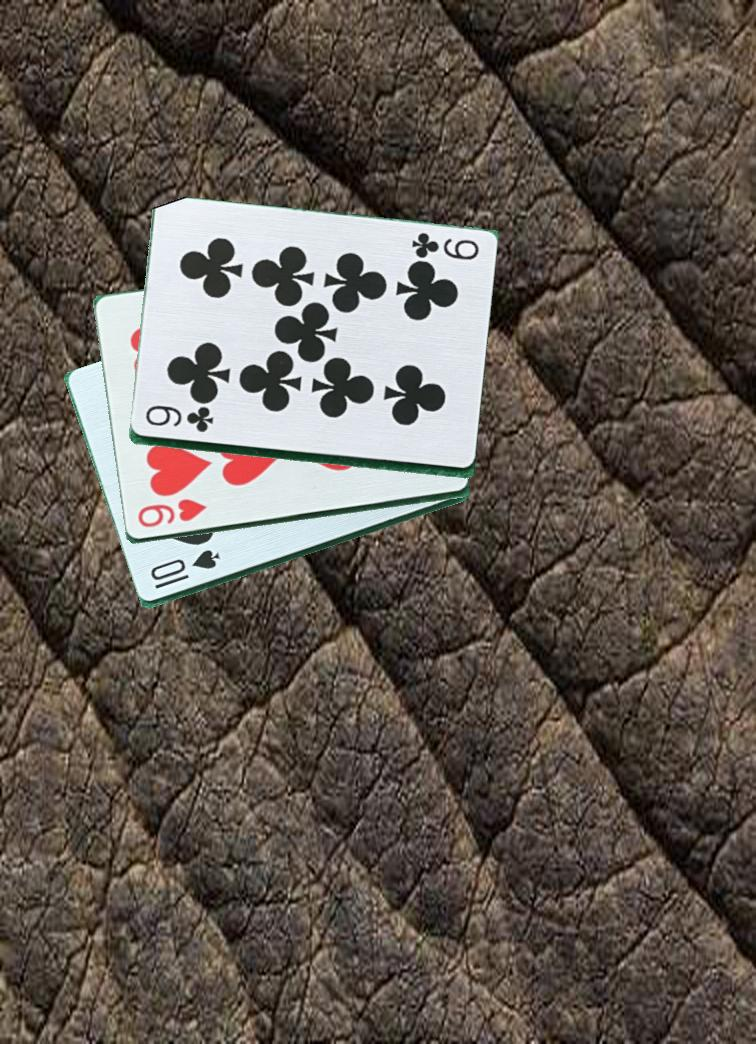9c: (401, 229, 481, 264), (141, 407, 216, 436)
9h: (133, 497, 209, 531)
ts: (146, 548, 223, 593)
